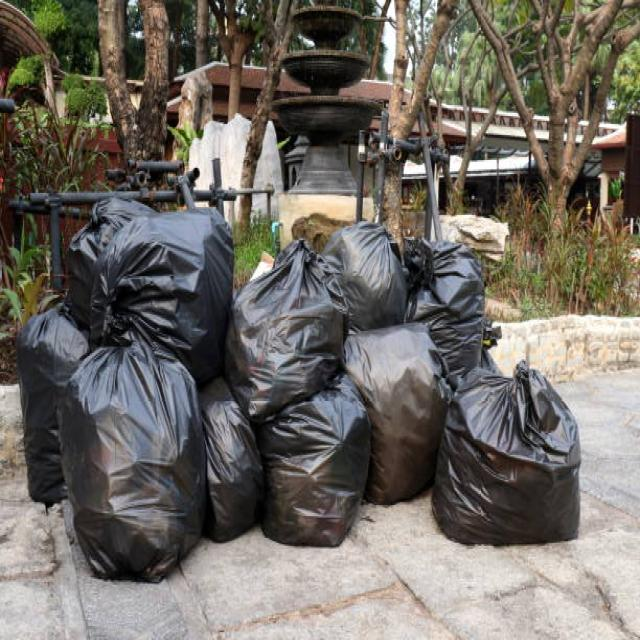sampah-detection: (54, 329, 212, 587), (56, 188, 237, 368), (432, 356, 586, 554), (220, 236, 348, 424), (345, 320, 452, 514), (262, 376, 374, 550), (7, 312, 88, 514), (402, 227, 493, 380), (194, 371, 268, 554)
